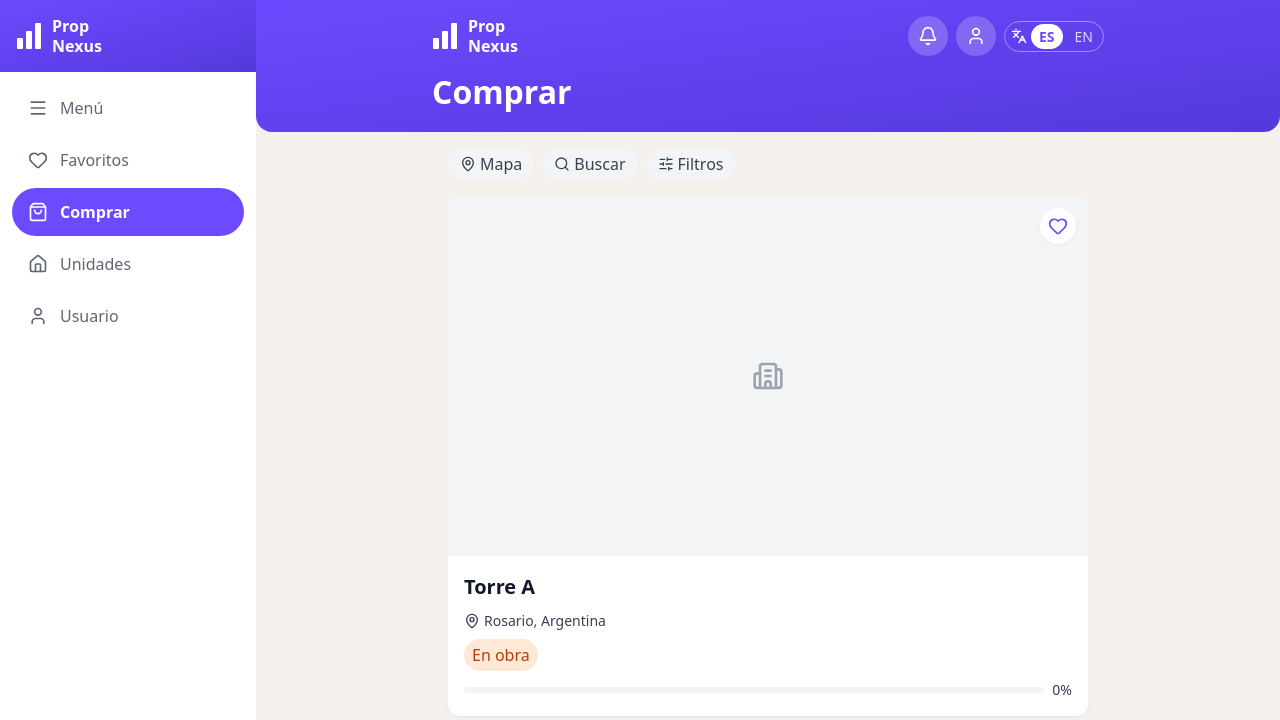
Test: /investor/buy › las tres vistas de la barra › Buscar abre INV-BUY-SEARCH-001 y volver a tocarlo lo cierra
Expected: the text "Torre A" is shown, [464,573,535,600]
Click the button "Buscar" at {"x": 590, "y": 164}, box [542,148,638,180]
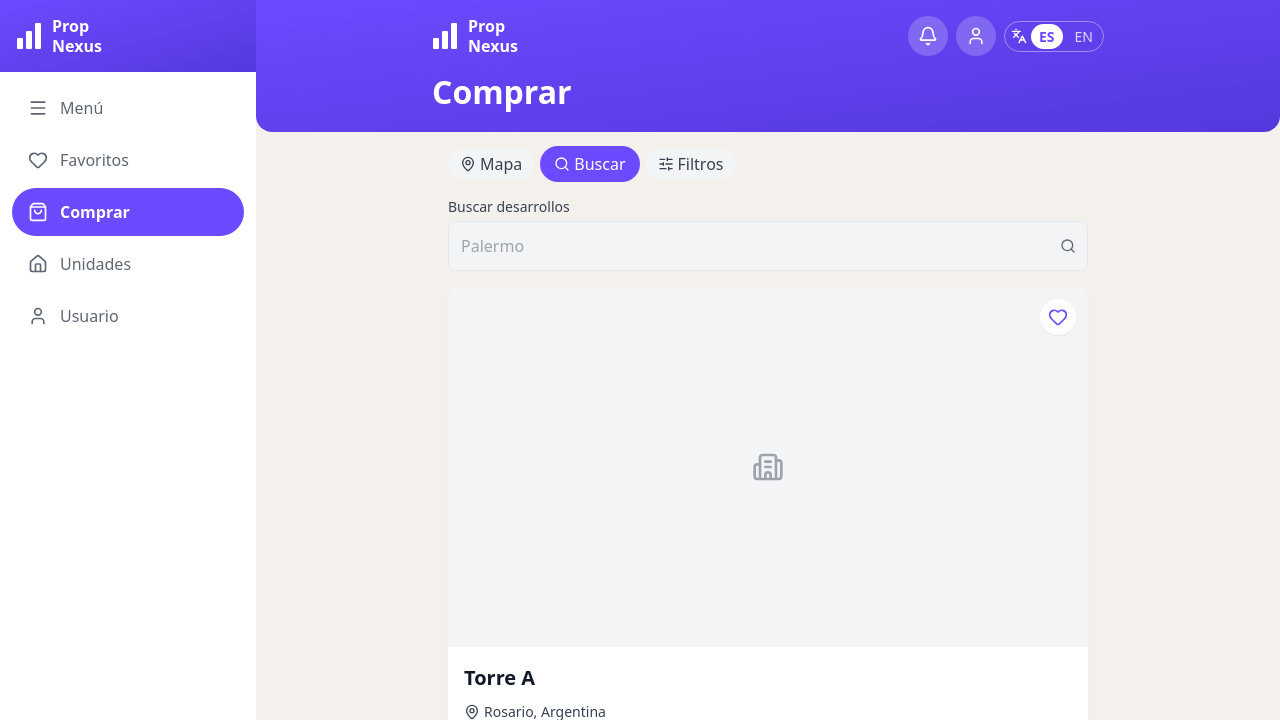
Now the element with test id "INV-BUY-SEARCH-001" is shown, box [448,196,1088,271]
Click the button "Buscar" at {"x": 590, "y": 164}, box [542,148,638,180]
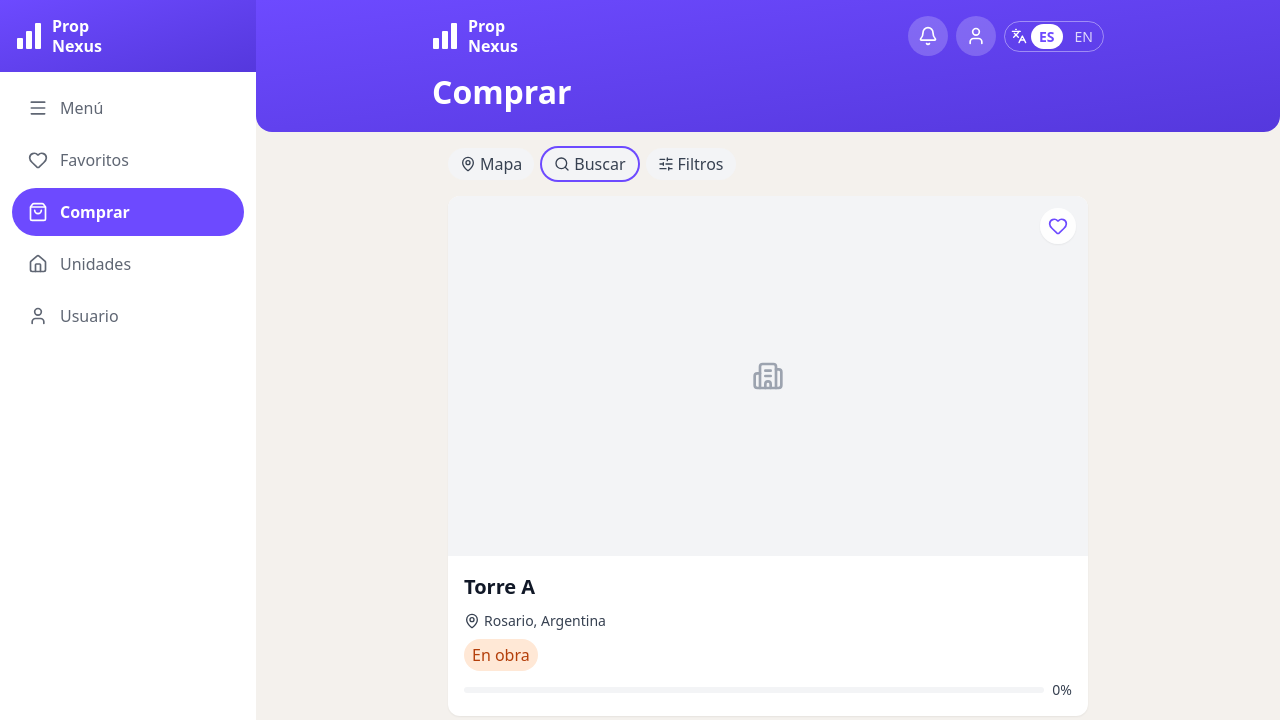
Now the element with test id "INV-BUY-SEARCH-001" is gone
